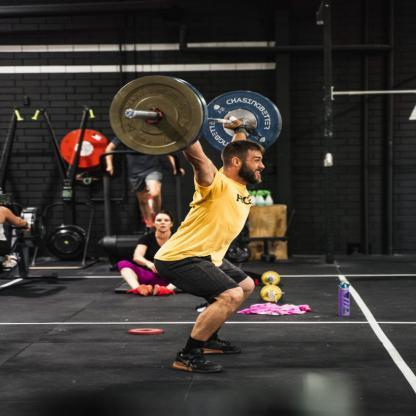barbell: (108, 74, 284, 158)
